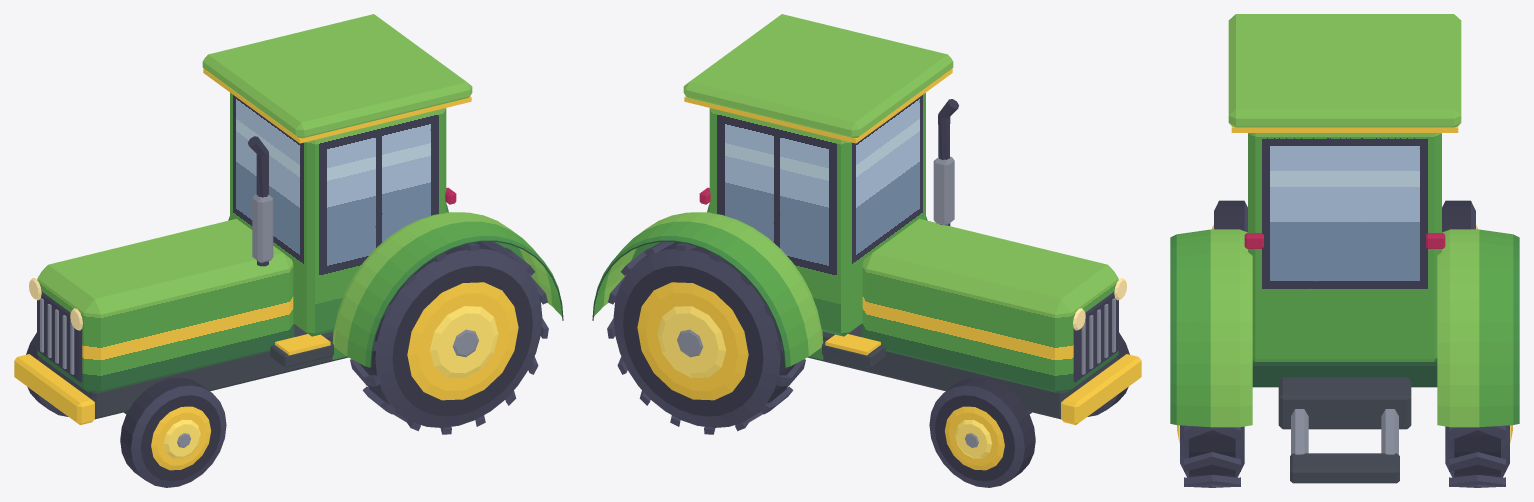
The picture shows the model from 3 angles, left to right: view 1: azimuth 30°, elevation 25°; view 2: azimuth 150°, elevation 25°; view 3: azimuth 270°, elevation 25°; orthographic projection. The views are drawn at different scales.
Parts seen in each view (by area): view 1: Body_static, Wheel_RL_tire_hub, Wheel_FL_tire_hub; view 2: Body_static, Wheel_RR_tire_hub, Wheel_FR_tire_hub; view 3: Body_static, Wheel_RL_tire_hub, Wheel_RR_tire_hub, Wheel_FL_tire_hub, Wheel_FR_tire_hub.
Part boxes in pixels (<box>): Body_static: <box>14,14,563,425</box>; Wheel_RL_tire_hub: <box>350,242,548,434</box>; Wheel_FL_tire_hub: <box>120,377,226,487</box>; Body_static: <box>592,14,1141,425</box>; Wheel_RR_tire_hub: <box>607,242,805,434</box>; Wheel_FR_tire_hub: <box>929,377,1035,487</box>; Body_static: <box>1170,14,1519,483</box>; Wheel_RL_tire_hub: <box>1177,425,1244,487</box>; Wheel_RR_tire_hub: <box>1445,425,1512,487</box>; Wheel_FL_tire_hub: <box>1212,200,1247,232</box>; Wheel_FR_tire_hub: <box>1442,200,1477,232</box>.
Size of the model in its own units: 67.04 by 45.57 by 37.57.
Materials: 1 (1 with a texture image).
